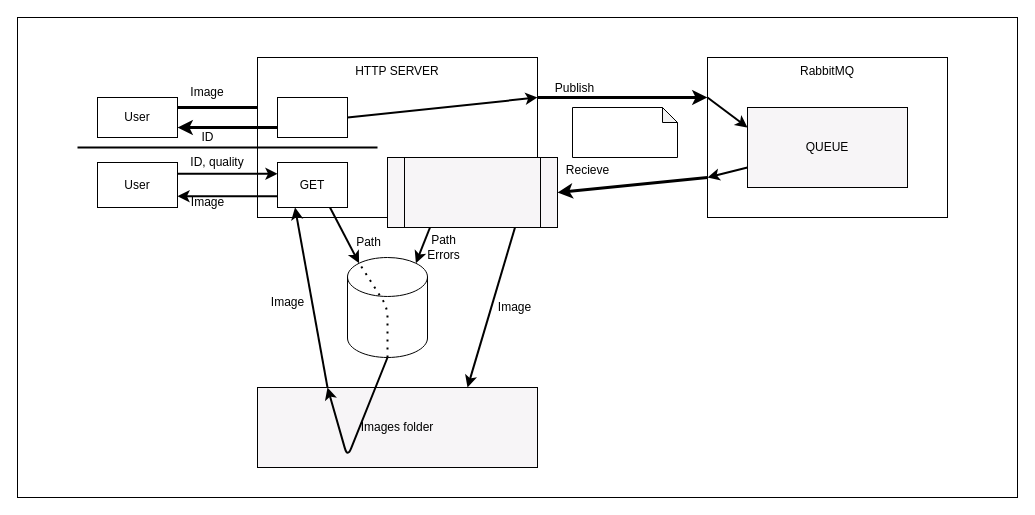
The diagram is 1035 pixels wide and 515 high, and some of its shapes have lost their labels. The shapes that lost their labels are listed below. From the top down, each one's centre as x and y in pixels, then its label:
At (312,117): "POST".
At (625,132): "Header: ID Body: Img".
At (472,192): "Service".
